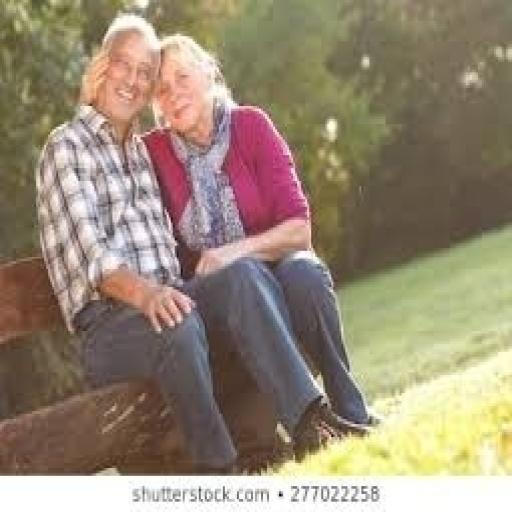sitting: (32, 10, 380, 474)
